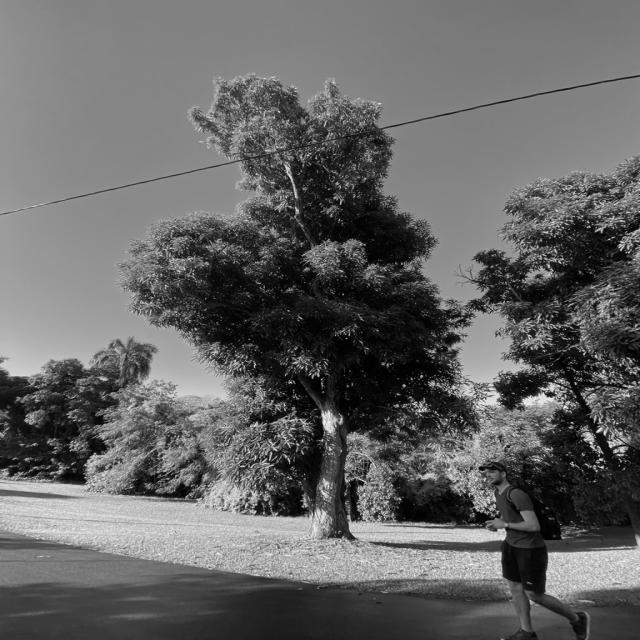Mango-Tree: (126, 53, 460, 532)
